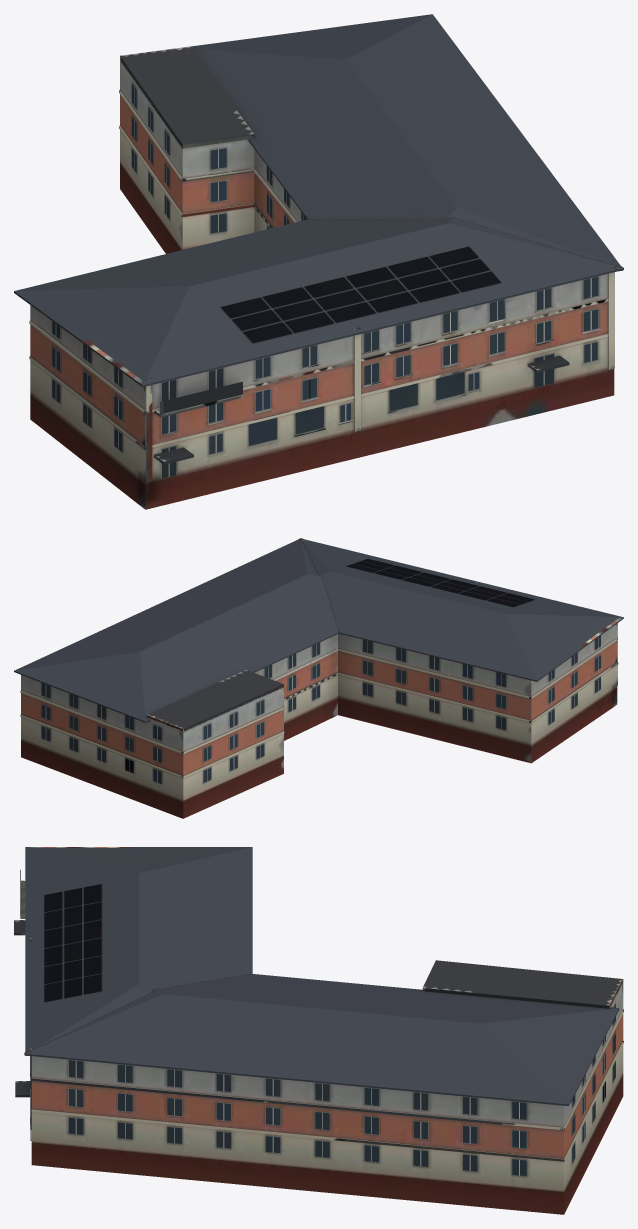
3 views of the same model, one above another, from view 1: azimuth 30°, elevation 25°; view 2: azimuth 150°, elevation 25°; view 3: azimuth 270°, elevation 25° (orthographic). The views are drawn at different scales.
Parts seen in each view (by area): view 1: building; view 2: building; view 3: building.
Boxes of the visible parts, <box> form: building: <box>14,14,623,509</box>; building: <box>14,538,623,818</box>; building: <box>14,847,623,1214</box>.
Size of the model in its own units: 47.96 by 11.76 by 48.02.
Materials: 2 (2 with a texture image).
